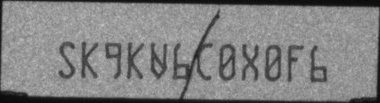0: (218, 44, 237, 81), (264, 44, 282, 81)
6: (171, 42, 188, 80), (309, 45, 326, 82)
9: (105, 40, 122, 79)
C: (196, 43, 212, 80)
F: (287, 44, 305, 82)
K: (81, 41, 99, 78), (127, 40, 144, 79)
S: (58, 41, 75, 79)
V: (150, 42, 168, 79)
X: (241, 43, 259, 81)
